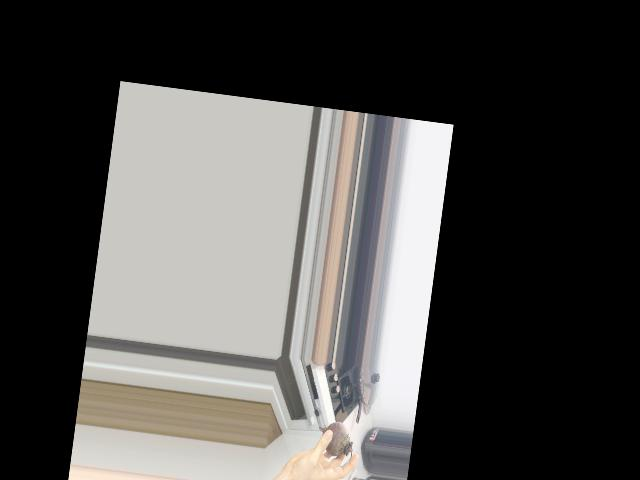beet: (313, 419, 355, 467)
